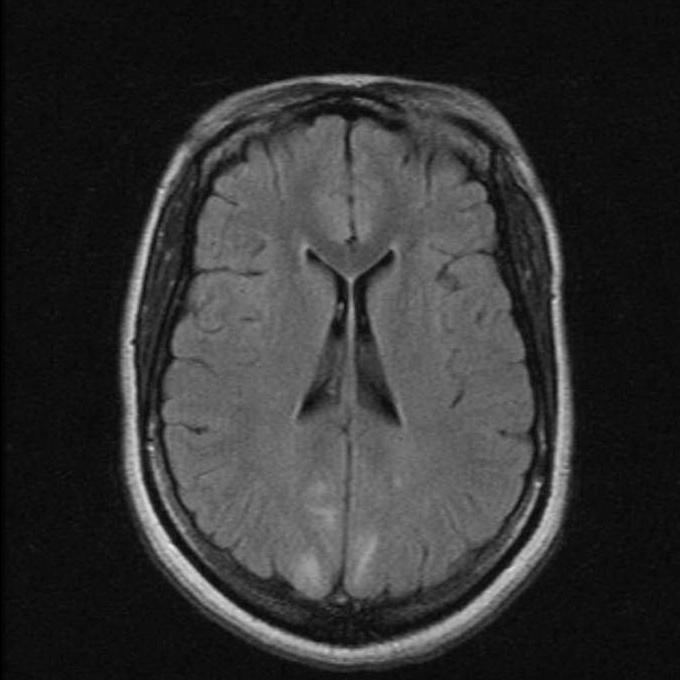Normal_Brain: (5, 3, 680, 680)
